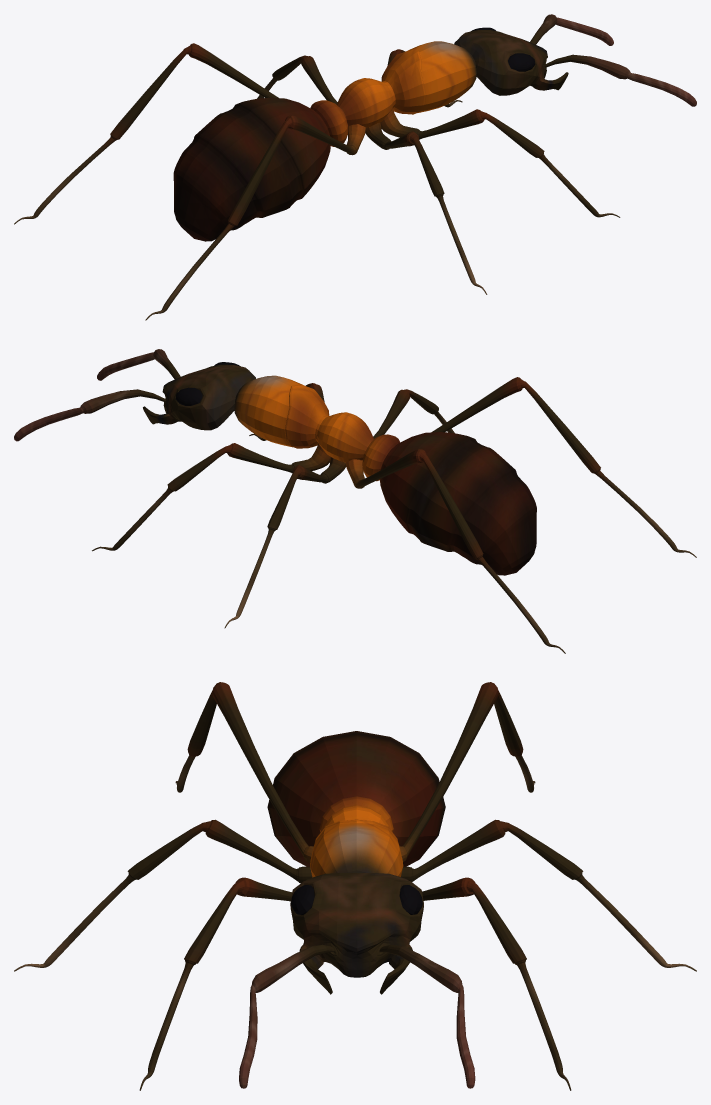
File: ant.glb
The picture shows the model from 3 angles, top to bottom: view 1: azimuth 30°, elevation 25°; view 2: azimuth 150°, elevation 25°; view 3: azimuth 270°, elevation 25°; orthographic projection. The views are drawn at different scales.
Visible parts, largest first — view 1: Sphere.002_Sphere; view 2: Sphere.002_Sphere; view 3: Sphere.002_Sphere.
Boxes of the visible parts, box(x1,y1,x2,y2) form: Sphere.002_Sphere: box(14, 14, 696, 320); Sphere.002_Sphere: box(14, 349, 696, 653); Sphere.002_Sphere: box(14, 682, 696, 1090).
Size of the model in its own units: 2.3 by 0.5861 by 1.73.
Materials: 1 (1 with a texture image).
